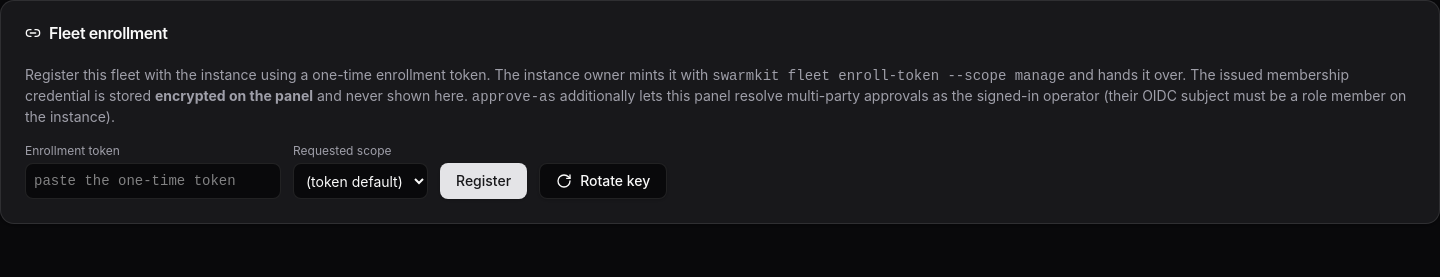
Test case: EnrollmentPanel › surfaces a rotate-before-register error
This screenshot has width=1440, height=277.
Click the button "Rotate key" at (603,181), box [539,163,667,199]
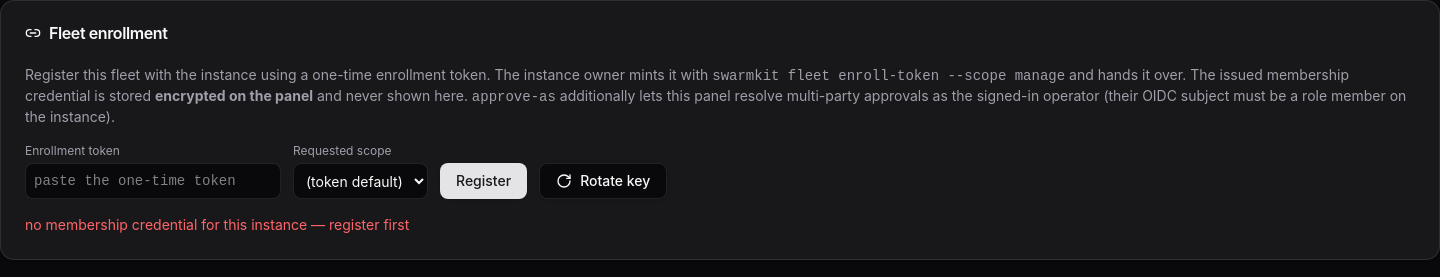
expect the text "no membership credential for this instance — register first" is shown: met, box [25,216,409,233]
